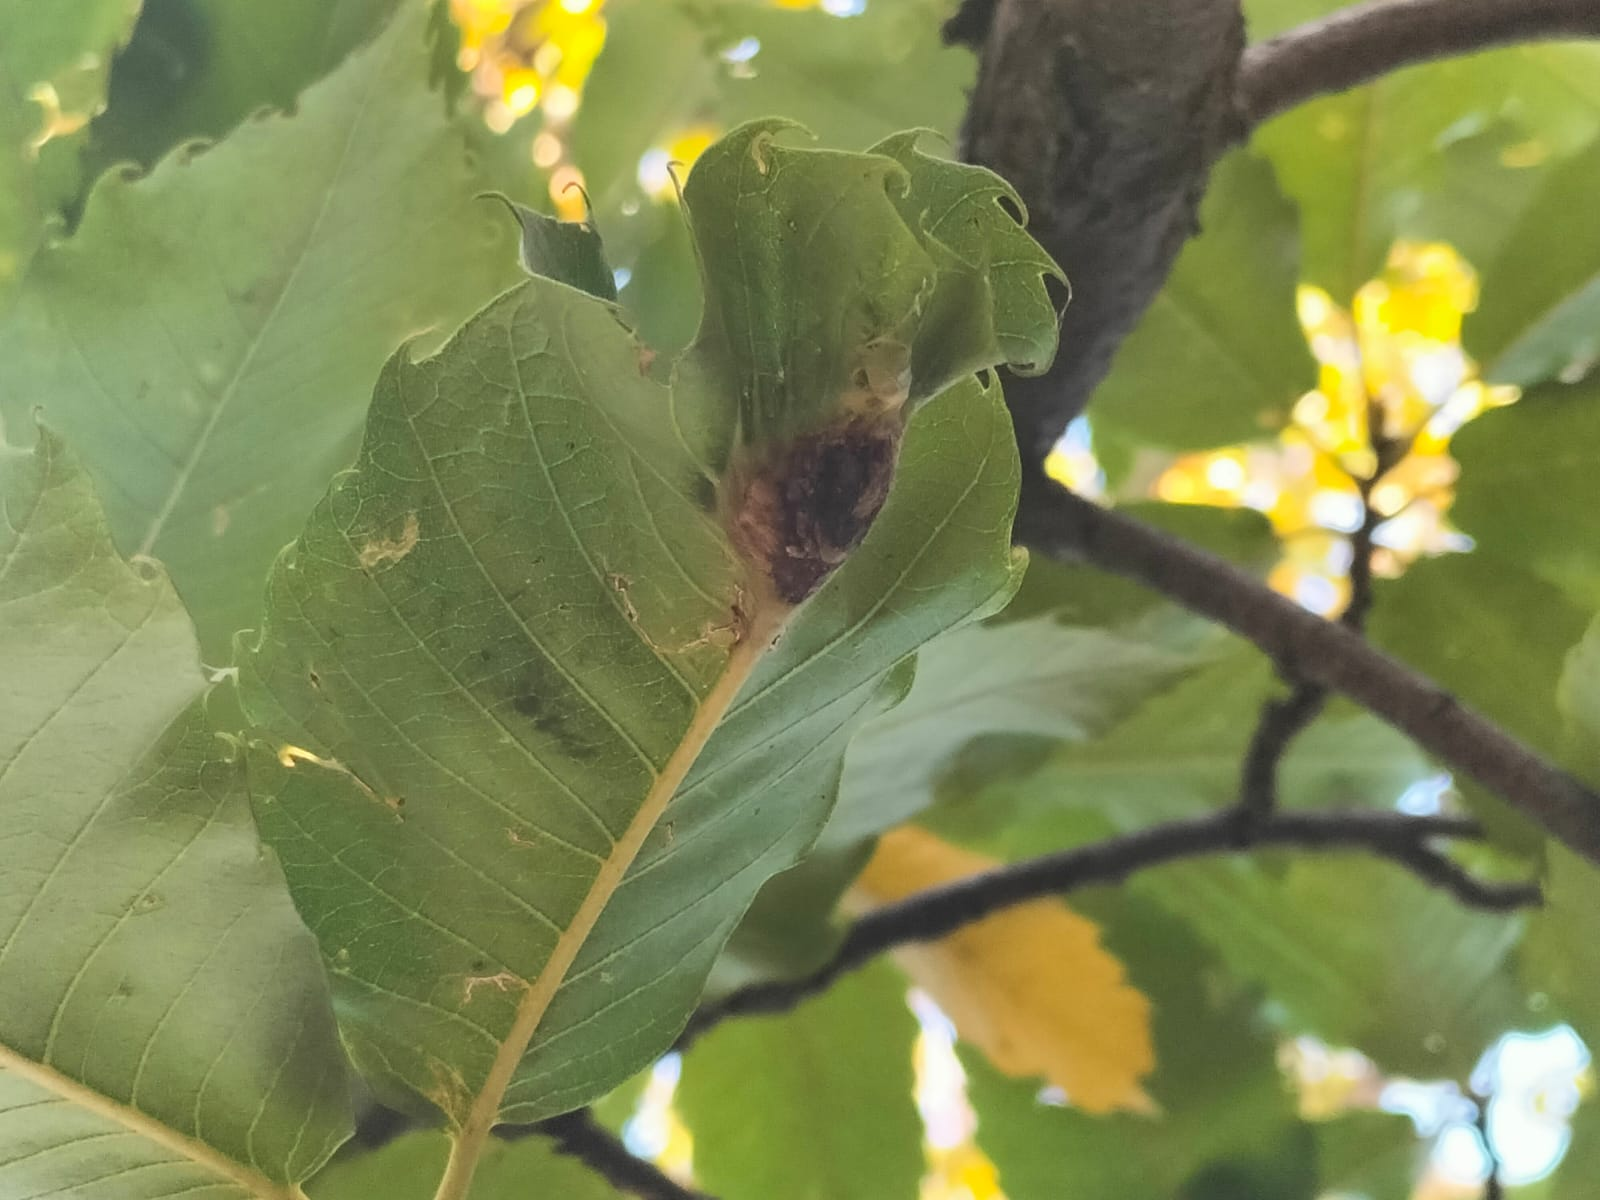galarisi: (636, 203, 985, 706)
